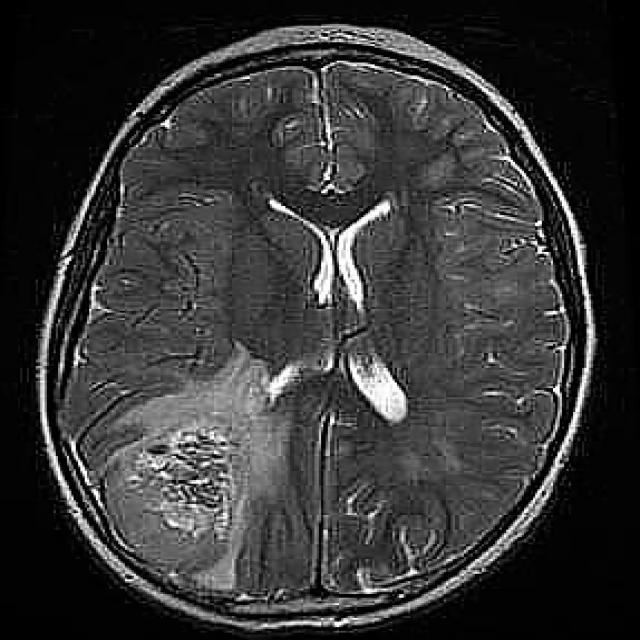Tumor-Cell: (105, 413, 301, 583)
